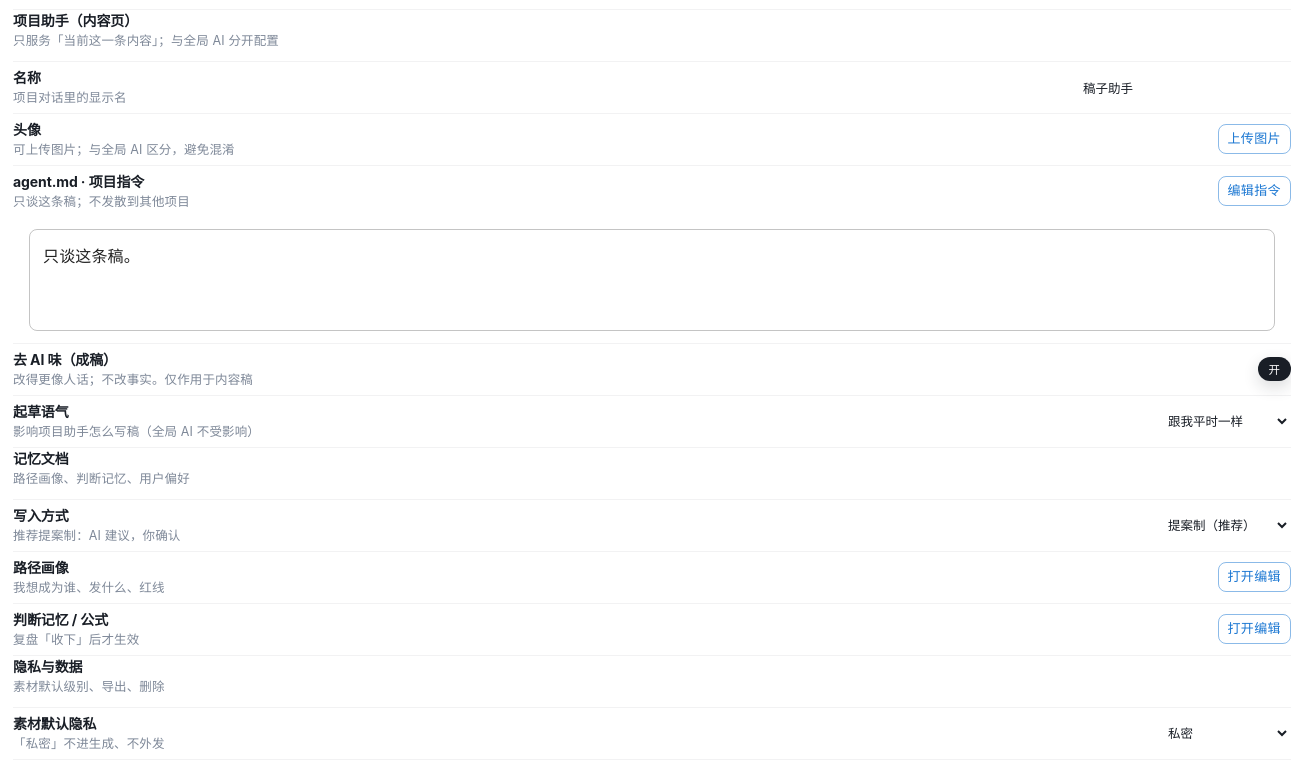
it: SettingsPage › toggles the humanize switch through settings
(page scrolled)
Click the button named "项目去AI味". click: (1274,369)
box: [1258,357,1291,381]
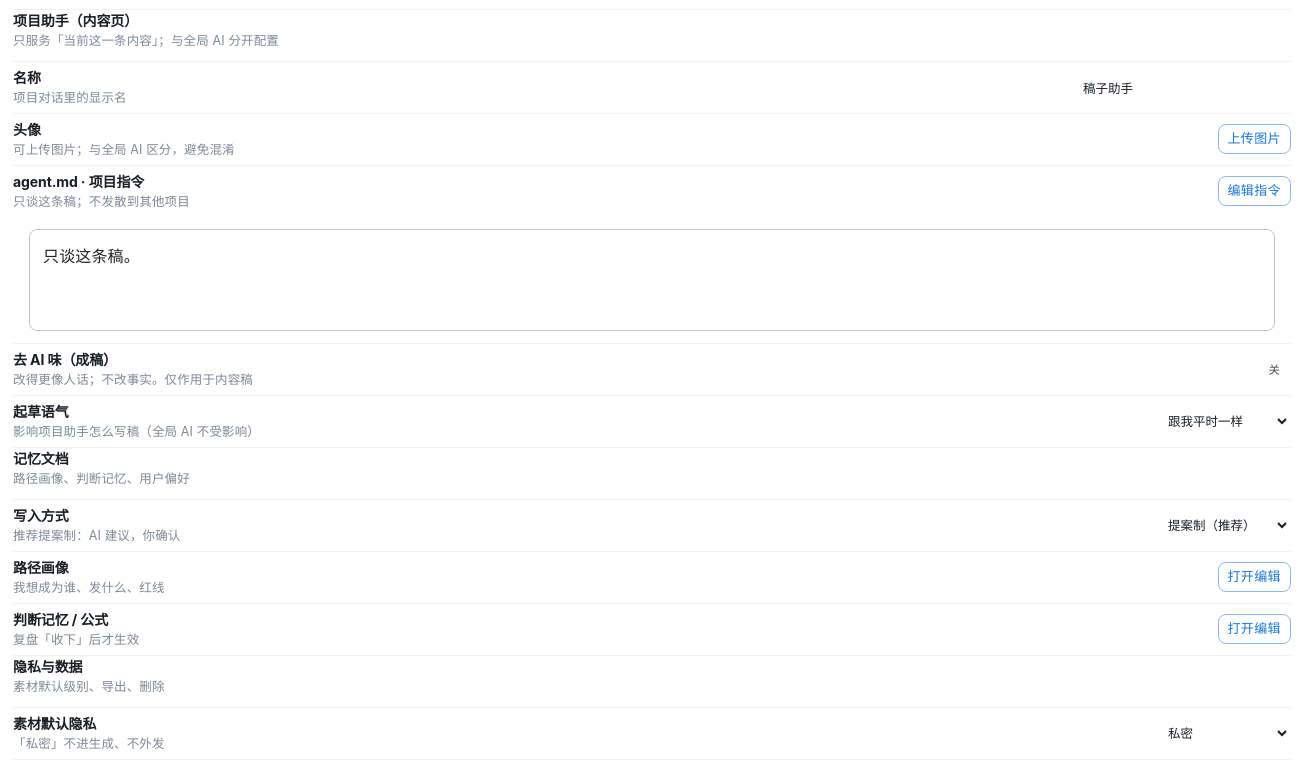
Now the button named "项目去AI味" reads "关", box [1258,357,1291,381]
